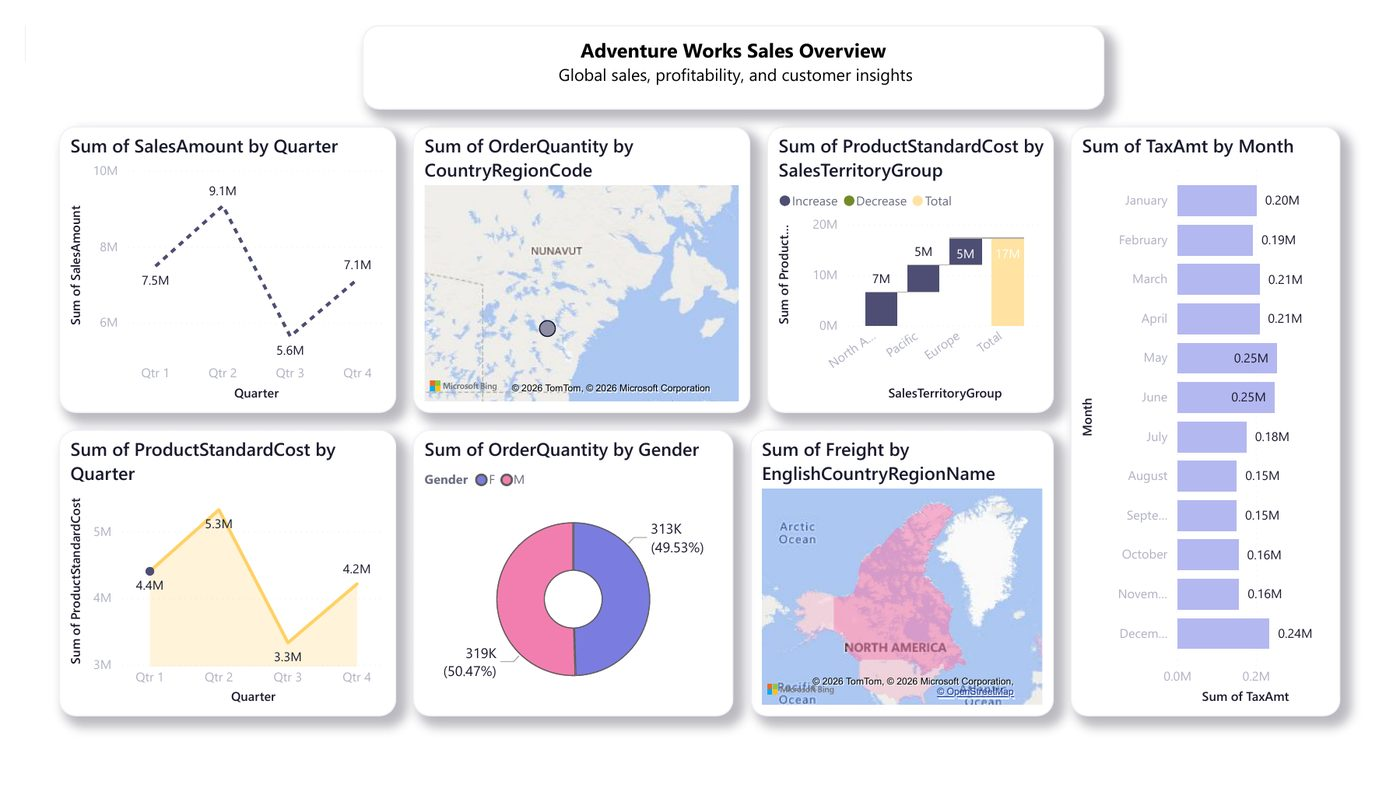

What the dashboard file says about the page in this screenshot:
{"tool":"powerbi","page":{"name":"Dashboard","canvas":[1280,720],"ordinal":0},"visuals":[{"type":"lineChart","fields":{"Category":["FactInternetSales.OrderDate.Variation.Date Hierarchy.Quarter","FactInternetSales.OrderDate.Variation.Date Hierarchy.Month","FactInternetSales.OrderDate.Variation.Date Hierarchy.Day"],"Y":["Sum(FactInternetSales.SalesAmount)"]},"box":[32,96,320,272],"z":1000},{"type":"map","fields":{"Category":["DimGeography.CountryRegionCode"],"Size":["Sum(FactInternetSales.OrderQuantity)"]},"box":[368,96,320,272],"z":2000},{"type":"waterfallChart","fields":{"Category":["DimSalesTerritory.SalesTerritoryGroup"],"Y":["Sum(FactInternetSales.ProductStandardCost)"]},"box":[704,96,272,272],"z":3000},{"type":"areaChart","fields":{"Category":["FactInternetSales.OrderDate.Variation.Date Hierarchy.Quarter"],"Y":["Sum(FactInternetSales.ProductStandardCost)"]},"box":[32,384,320,272],"z":4000},{"type":"filledMap","fields":{"Category":["DimGeography.EnglishCountryRegionName"]},"box":[688,384,288,272],"z":5000},{"type":"donutChart","fields":{"Category":["DimCustomer.Gender","FactInternetSales.OrderDate.Variation.Date Hierarchy.Month"],"Y":["Sum(FactInternetSales.OrderQuantity)"]},"box":[368,384,304,272],"z":6000},{"type":"barChart","fields":{"Category":["FactInternetSales.ShipDate.Variation.Date Hierarchy.Month"],"Y":["Sum(FactInternetSales.TaxAmt)"]},"box":[992,96,256,560],"z":7000},{"type":"textbox","box":[320,0,704,80],"z":8000}]}

Visuals, with their boxes in screenshot pixels (x1, y1, x2, y2), scaled from the page's 1280x720 canvas onto the 1400x809 screenshot:
lineChart - FactInternetSales.OrderDate.Variation.Date Hierarchy.Quarter x FactInternetSales.OrderDate.Variation.Date Hierarchy.Month: pyautogui.locateOnScreen(35, 108, 385, 413)
map - DimGeography.CountryRegionCode x Sum(FactInternetSales.OrderQuantity): pyautogui.locateOnScreen(402, 108, 752, 413)
waterfallChart - DimSalesTerritory.SalesTerritoryGroup x Sum(FactInternetSales.ProductStandardCost): pyautogui.locateOnScreen(770, 108, 1068, 413)
areaChart - FactInternetSales.OrderDate.Variation.Date Hierarchy.Quarter x Sum(FactInternetSales.ProductStandardCost): pyautogui.locateOnScreen(35, 431, 385, 737)
filledMap - DimGeography.EnglishCountryRegionName: pyautogui.locateOnScreen(752, 431, 1068, 737)
donutChart - DimCustomer.Gender x FactInternetSales.OrderDate.Variation.Date Hierarchy.Month: pyautogui.locateOnScreen(402, 431, 735, 737)
barChart - FactInternetSales.ShipDate.Variation.Date Hierarchy.Month x Sum(FactInternetSales.TaxAmt): pyautogui.locateOnScreen(1085, 108, 1365, 737)
textbox: pyautogui.locateOnScreen(350, 0, 1120, 90)
